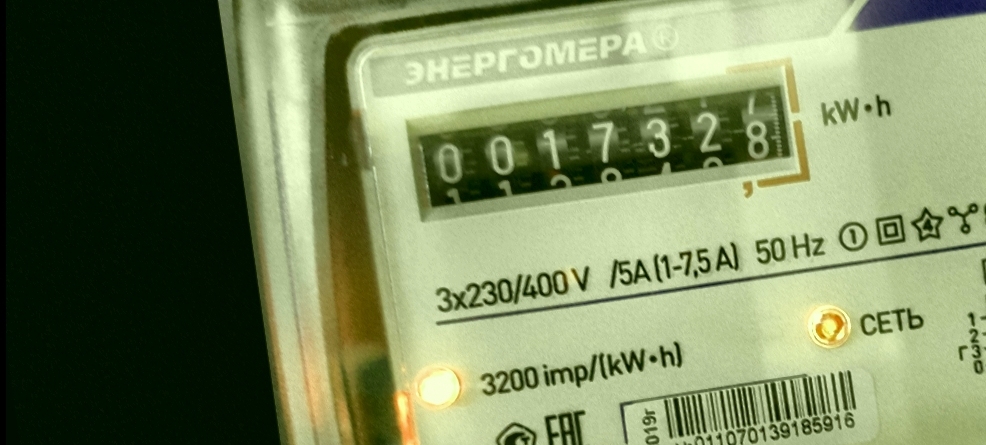0: (430, 140, 468, 188), (483, 131, 518, 180)
1: (537, 125, 565, 174)
2: (689, 109, 724, 157)
3: (641, 115, 674, 162)
7: (587, 119, 620, 168)
8: (740, 118, 771, 163)
screen: (394, 58, 818, 242)
